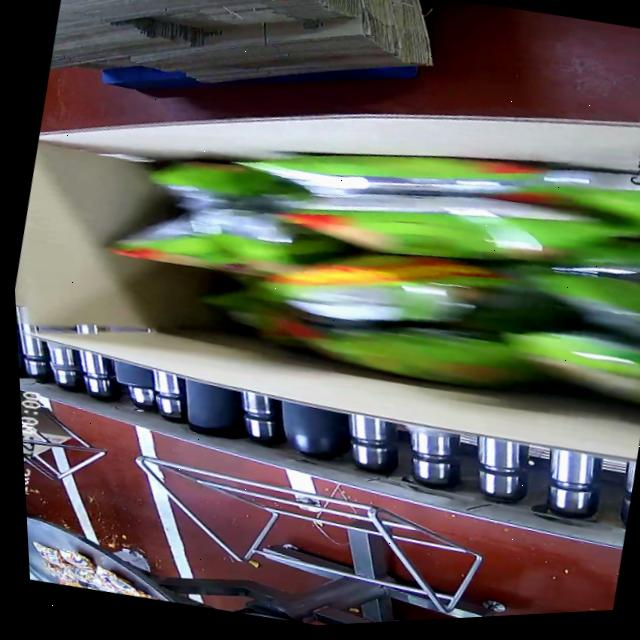YOGURT_HERB: (97, 75, 640, 459)
